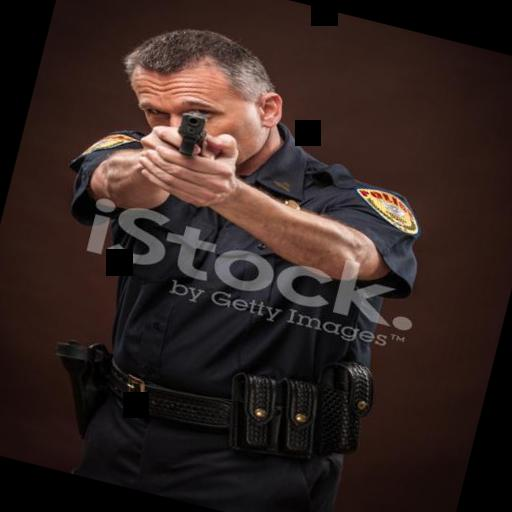Handgun: (168, 106, 208, 162)
